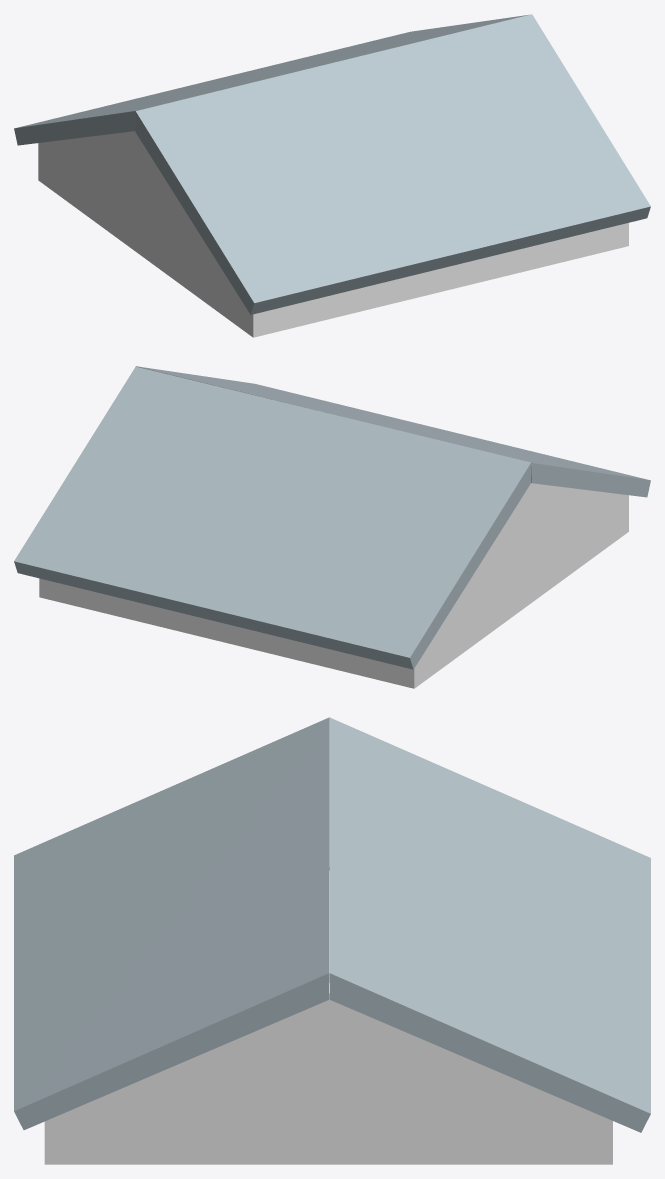
File: geo-roof.glb
3 renders of one model, top to bottom at view 1: azimuth 30°, elevation 25°; view 2: azimuth 150°, elevation 25°; view 3: azimuth 270°, elevation 25°, orthographic. The views are drawn at different scales.
Visible parts, largest first — view 1: mesh1784188291; view 2: mesh1784188291; view 3: mesh1784188291.
Boxes of the visible parts, x1,y1,x2,y2 form: mesh1784188291: (14, 14, 650, 337); mesh1784188291: (14, 366, 650, 688); mesh1784188291: (14, 717, 650, 1164).
Size of the model in its own units: 2.14 by 0.7753 by 2.25.
